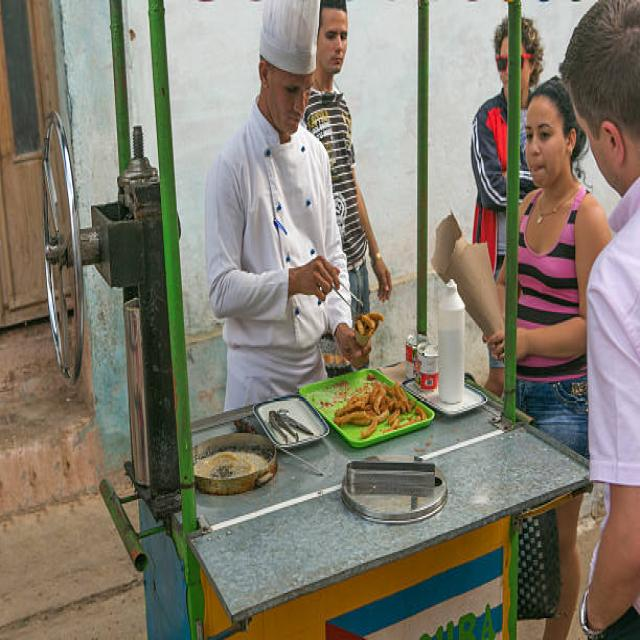Emperan: (31, 0, 631, 640)
